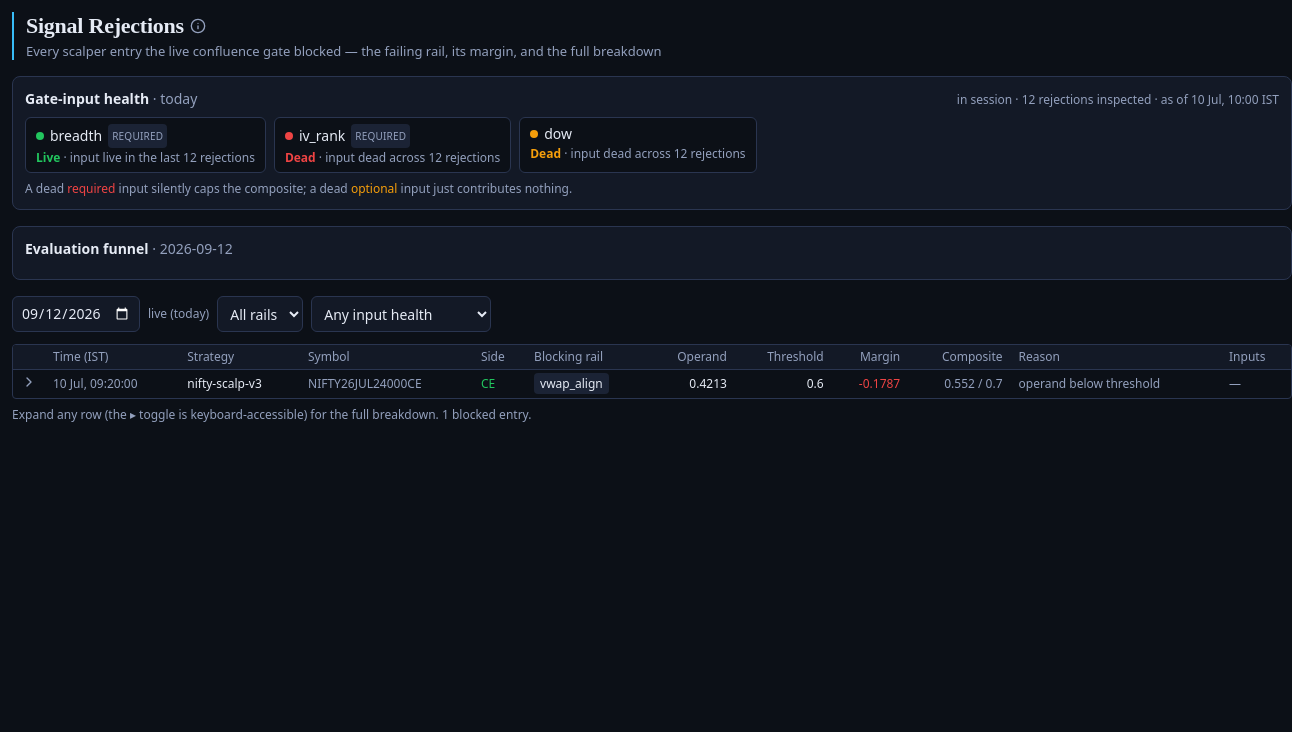
Scenario: RejectionsPage main table (adopted onto DataTable) › renders an un-judged row as “—”, never as healthy
Click the button named "Expand details". click: (29, 382)
box: [21, 374, 37, 390]
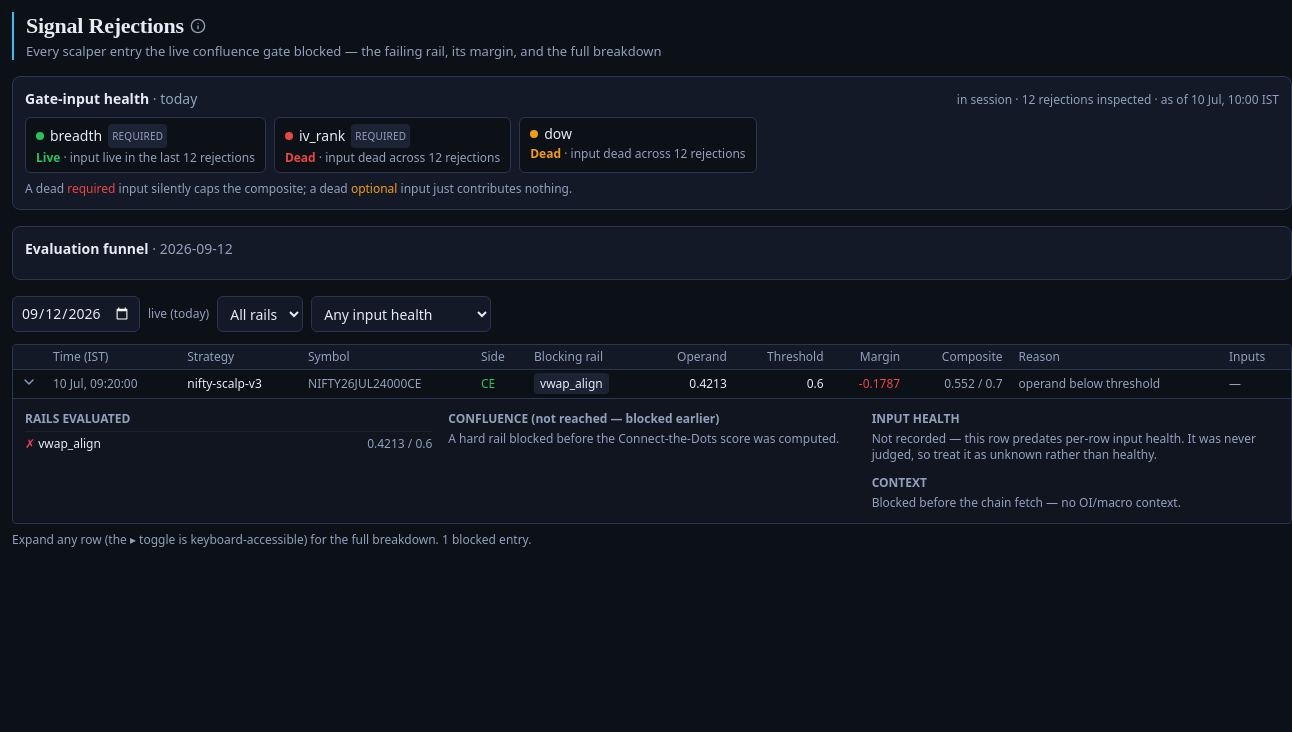
Now the text "never judged, so treat it as unknown rather than healthy" is shown, box [872, 430, 1256, 463]
